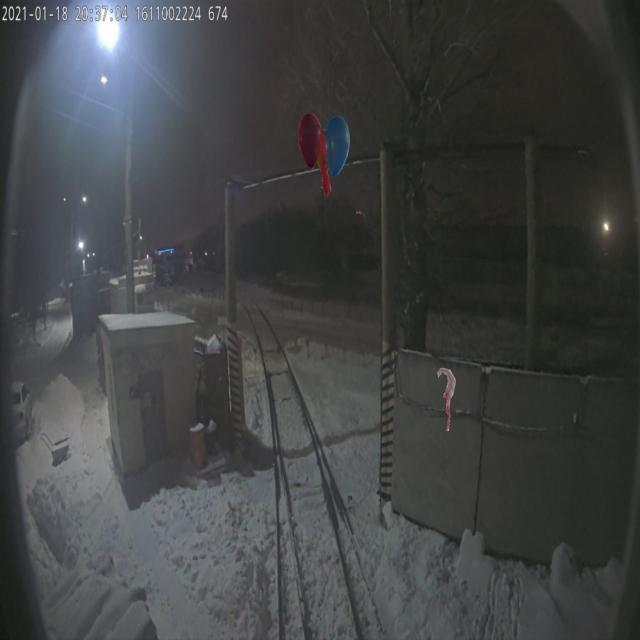balloon: (298, 112, 350, 176)
floating object: (437, 367, 456, 431), (318, 132, 331, 196)
